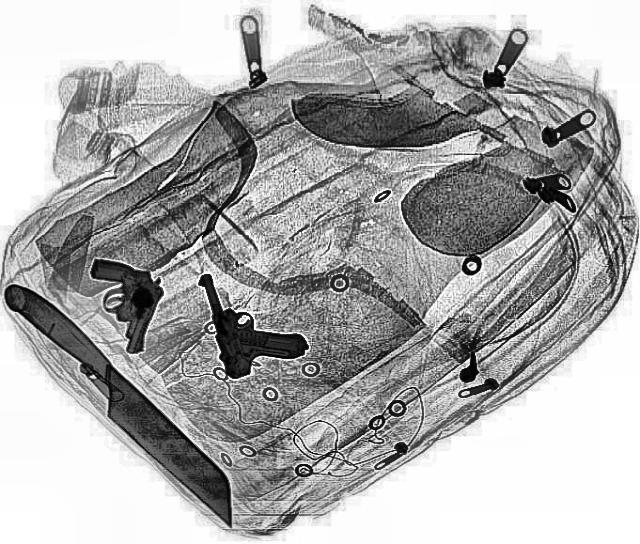Gun: (197, 258, 311, 380), (65, 255, 168, 355)
Knife: (0, 283, 258, 531)
